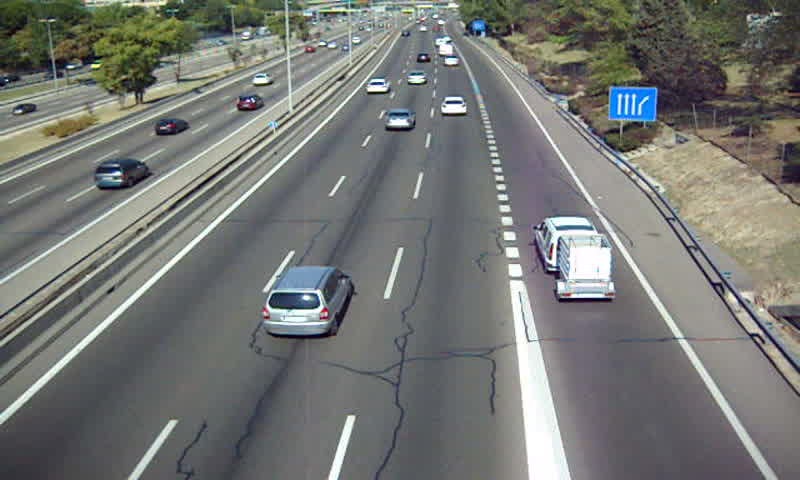car: (261, 266, 352, 337), (384, 109, 416, 132), (440, 96, 466, 116), (366, 78, 390, 95), (404, 70, 428, 86), (444, 54, 460, 66)
van: (533, 217, 601, 273)
